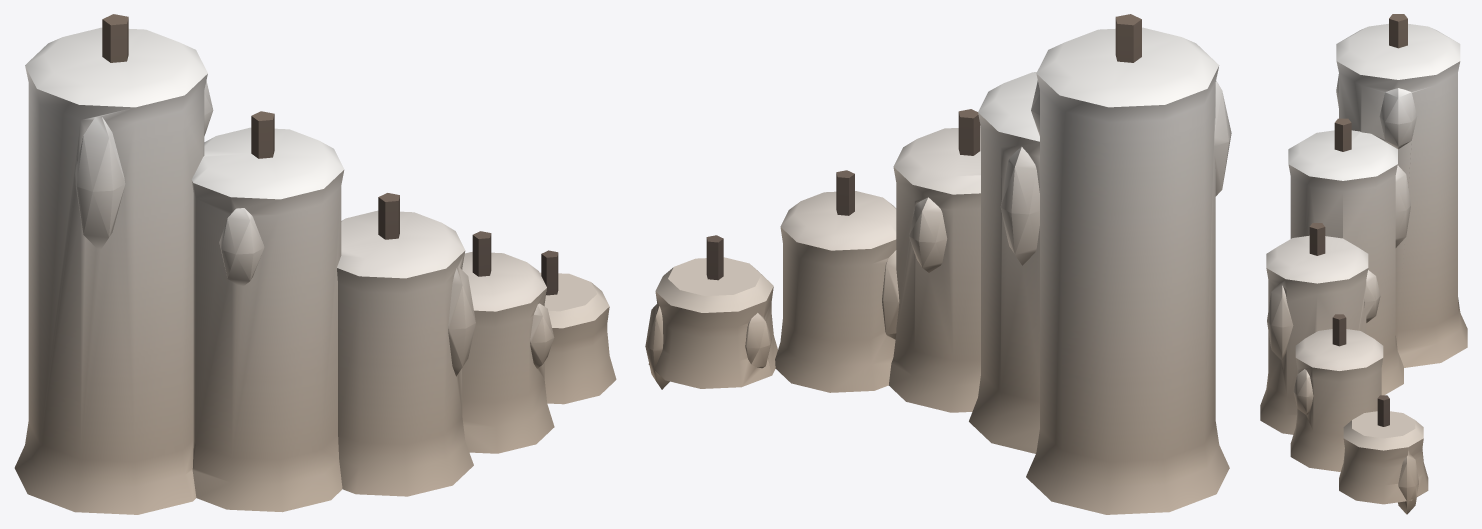
File: candle_arc.glb
3 views of the same model, side by side, from view 1: azimuth 30°, elevation 25°; view 2: azimuth 150°, elevation 25°; view 3: azimuth 270°, elevation 25° (orthographic). The views are drawn at different scales.
Parts seen in each view (by area): view 1: candle_arc; view 2: candle_arc; view 3: candle_arc.
Boxes of the visible parts, x1,y1,x2,y2 form: candle_arc: [14, 14, 616, 514]; candle_arc: [645, 14, 1231, 514]; candle_arc: [1260, 14, 1467, 514].
Bounding box in the file's own units: 1.26 × 1.01 × 0.562.
1 material, 1 textured.
